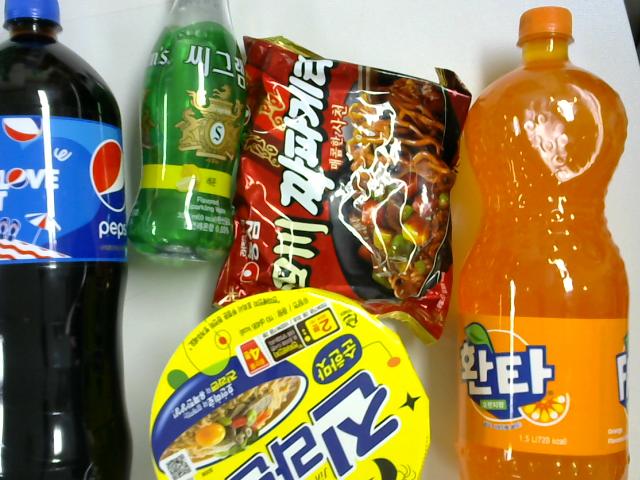Hwanta_Orange_1.5L: (440, 4, 629, 480)
Jinlamyeon_Mild_Taste_Large_Cup: (133, 283, 438, 477)
Pepsi_Cola_1.5L: (1, 1, 136, 480)
Seagram_Lemon_Carbonated_Water: (132, 1, 262, 266)
Sichuan_Chapaghetti: (213, 49, 463, 315)
